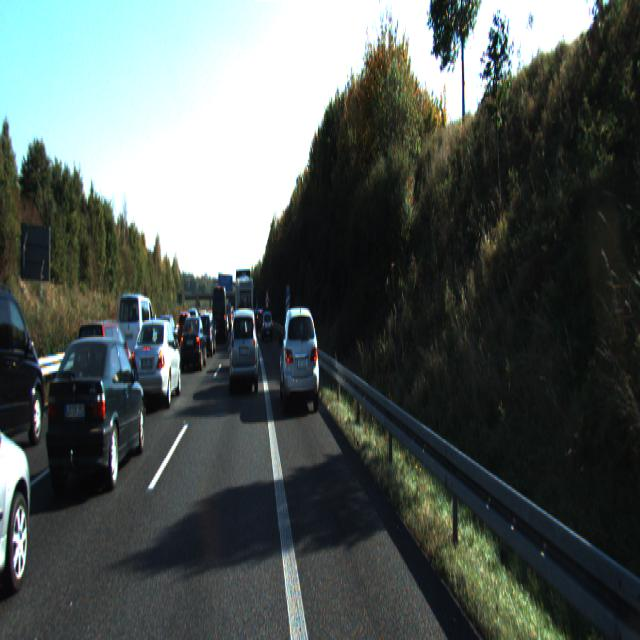Car: (45, 330, 148, 504), (0, 350, 48, 615), (0, 279, 50, 463), (74, 316, 134, 406), (129, 317, 182, 412), (280, 303, 320, 414), (116, 290, 158, 376), (230, 306, 259, 395), (180, 313, 208, 371), (236, 276, 254, 346), (196, 312, 217, 358), (212, 286, 228, 344), (262, 311, 274, 341)
